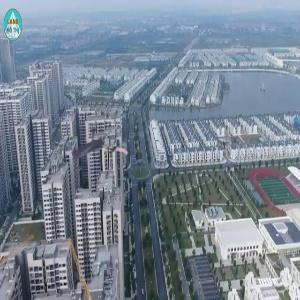drone: (62, 123, 123, 184)
